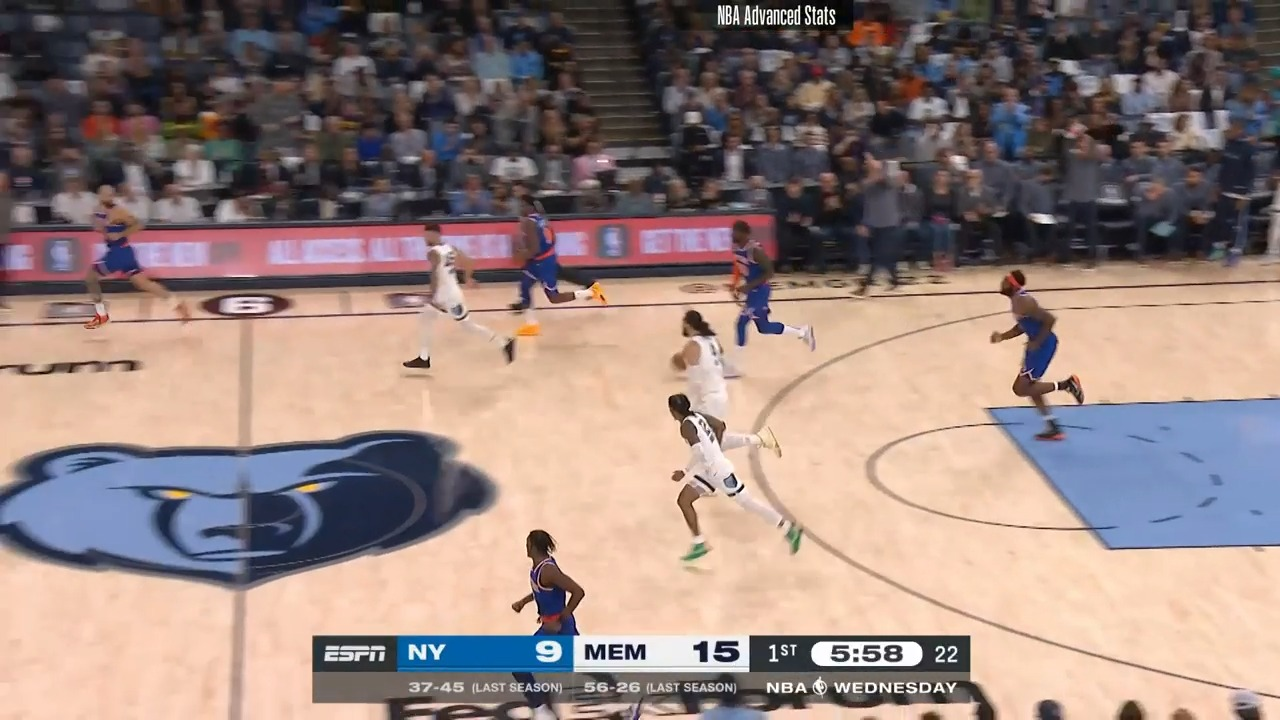player: (658, 390, 800, 565), (393, 221, 512, 379), (981, 270, 1083, 449), (79, 183, 189, 335), (716, 220, 816, 370), (507, 191, 609, 338), (668, 310, 750, 452), (510, 531, 591, 638)
